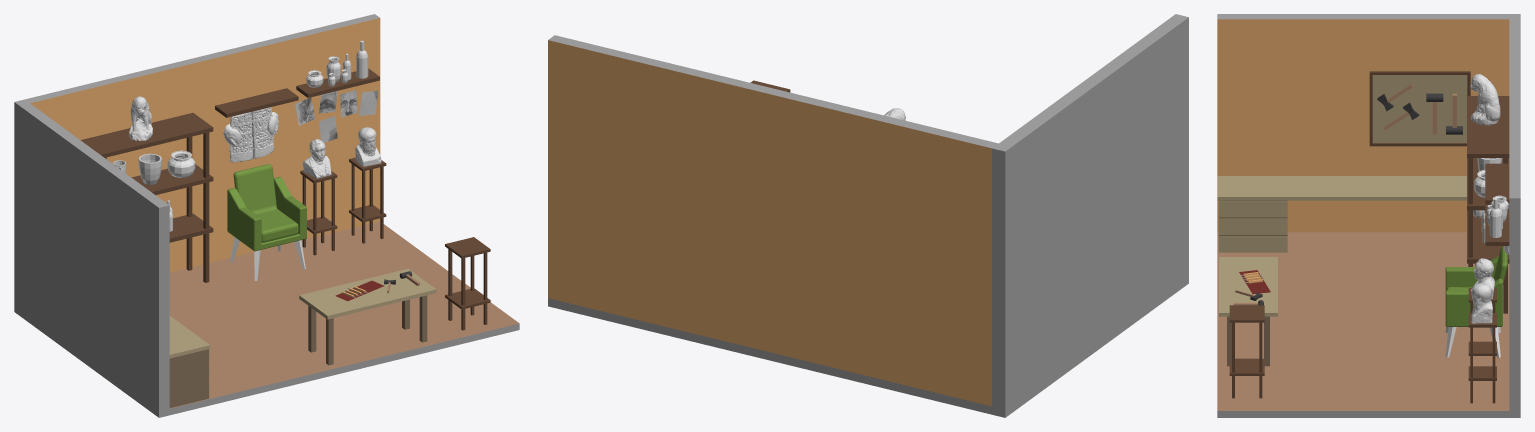
File: Room_New.fbx
3 renders of one model, left to right at view 1: azimuth 30°, elevation 25°; view 2: azimuth 150°, elevation 25°; view 3: azimuth 270°, elevation 25°, orthographic. The views are drawn at different scales.
Visible parts, largest first — view 1: Room.002, Table.002, Plane.025, Cube.071, Shelf.001, relief_au_taureau_lower_Rez.002, Cube.051, Plane.026, Cube.022, Cube.058, Cube.070, Small_Shelf.001 (+14 smaller); view 2: Room.002; view 3: Room.002, Board.002, Cube.055, Table.002, Shelf.001, Plane.025, Cube.053, Cube.052, Cube.054, Lion.002, Small_Shelf.001, Cube.011 (+19 smaller).
Boxes of the visible parts, box(x1,y1,x2,y2) form: Room.002: box(14, 14, 519, 417); Table.002: box(299, 268, 436, 319); Plane.025: box(227, 176, 306, 251); Cube.071: box(233, 164, 298, 242); Shelf.001: box(80, 113, 213, 157); relief_au_taureau_lower_Rez.002: box(223, 107, 278, 162); Cube.051: box(169, 349, 208, 407); Plane.026: box(295, 90, 378, 142); Cube.022: box(105, 132, 209, 282); Cube.058: box(308, 295, 427, 365); Cube.070: box(448, 249, 487, 330); Small_Shelf.001: box(215, 88, 298, 117); Room.002: box(548, 14, 1188, 417); Room.002: box(1217, 14, 1520, 417); Board.002: box(1369, 71, 1470, 146); Cube.055: box(1217, 176, 1466, 200); Table.002: box(1219, 257, 1277, 316); Shelf.001: box(1467, 96, 1509, 157); Plane.025: box(1445, 256, 1502, 326); Cube.053: box(1218, 236, 1287, 252); Cube.052: box(1218, 201, 1287, 217); Cube.054: box(1218, 218, 1287, 234); Lion.002: box(1470, 74, 1500, 125); Small_Shelf.001: box(1485, 163, 1509, 204); Cube.011: box(1467, 210, 1509, 263).
Size of the model in its own units: 503 by 280 by 350.
12 materials, 1 textured.
